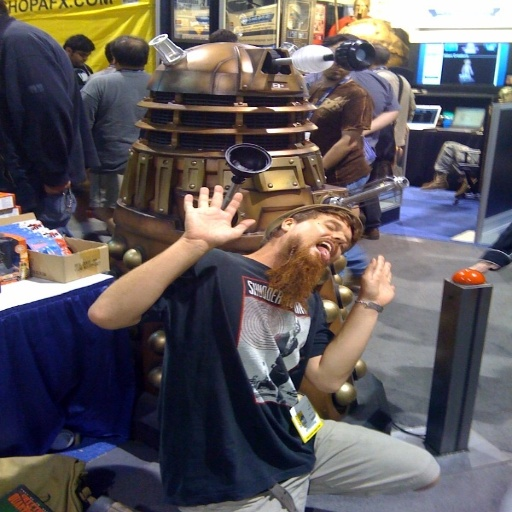hand: (177, 188, 249, 241), (360, 255, 396, 305), (471, 259, 497, 273), (44, 183, 71, 192)
